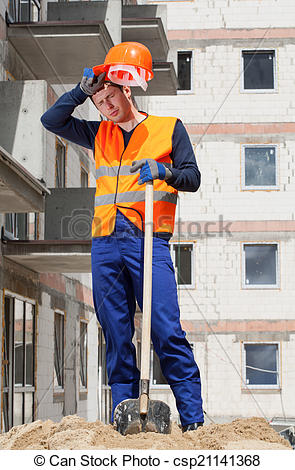hard hat: (91, 41, 154, 83)
high-vis: (93, 115, 176, 232)
